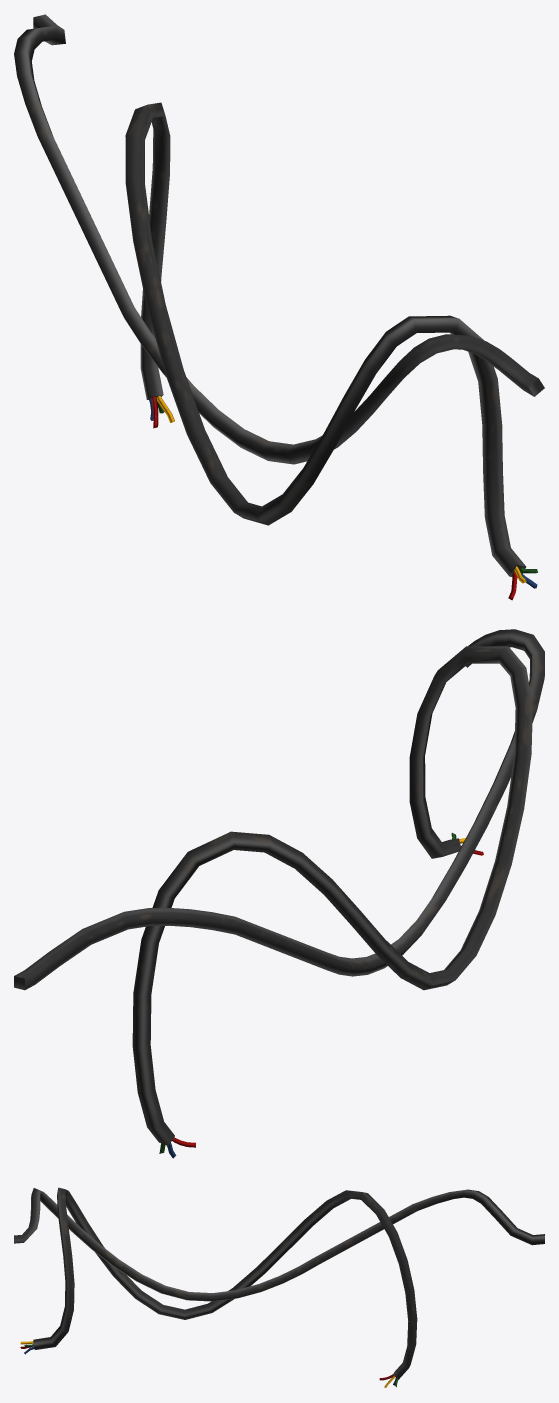
Rendered from cablePipe02_D.fbx.
3 renders of one model, top to bottom at view 1: azimuth 30°, elevation 25°; view 2: azimuth 150°, elevation 25°; view 3: azimuth 270°, elevation 25°, orthographic. The views are drawn at different scales.
Visible parts, largest first — view 1: cablePipe02_D; view 2: cablePipe02_D; view 3: cablePipe02_D.
Boxes of the visible parts, box(x1,y1,x2,y2) form: cablePipe02_D: box(14, 14, 544, 600); cablePipe02_D: box(14, 629, 544, 1158); cablePipe02_D: box(14, 1187, 544, 1387).
Bounding box in the file's own units: 55.01 × 115 × 300.
